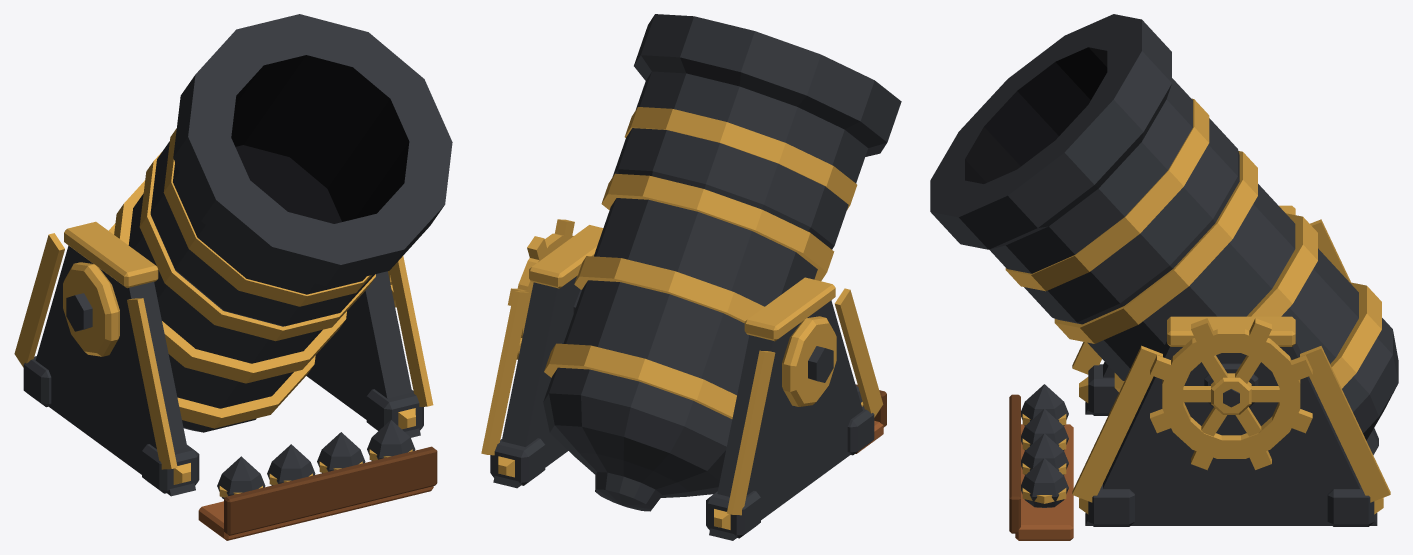
File: MortarB.obj
3 views of the same model, side by side, from view 1: azimuth 30°, elevation 25°; view 2: azimuth 150°, elevation 25°; view 3: azimuth 270°, elevation 25° (orthographic). The views are drawn at different scales.
Parts seen in each view (by area): view 1: MortarB; view 2: MortarB; view 3: MortarB.
Part boxes in pixels (x1=…): MortarB: x1=14, y1=14, x2=452, y2=540; MortarB: x1=481, y1=14, x2=901, y2=540; MortarB: x1=930, y1=14, x2=1398, y2=540.
Size of the model in its own units: 0.708 by 1.03 by 0.9624.
